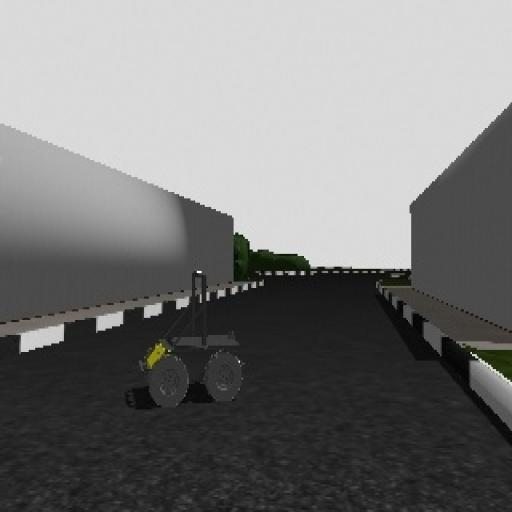huskya200: (127, 253, 247, 428)
